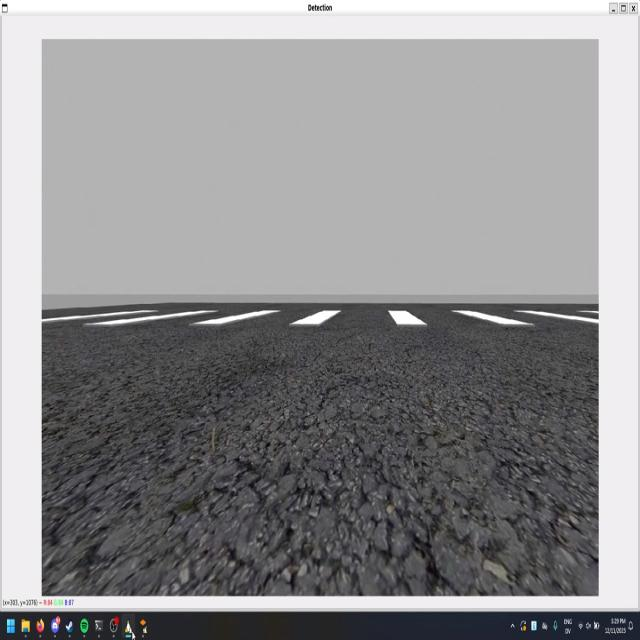crosswalk: (41, 308, 598, 325)
